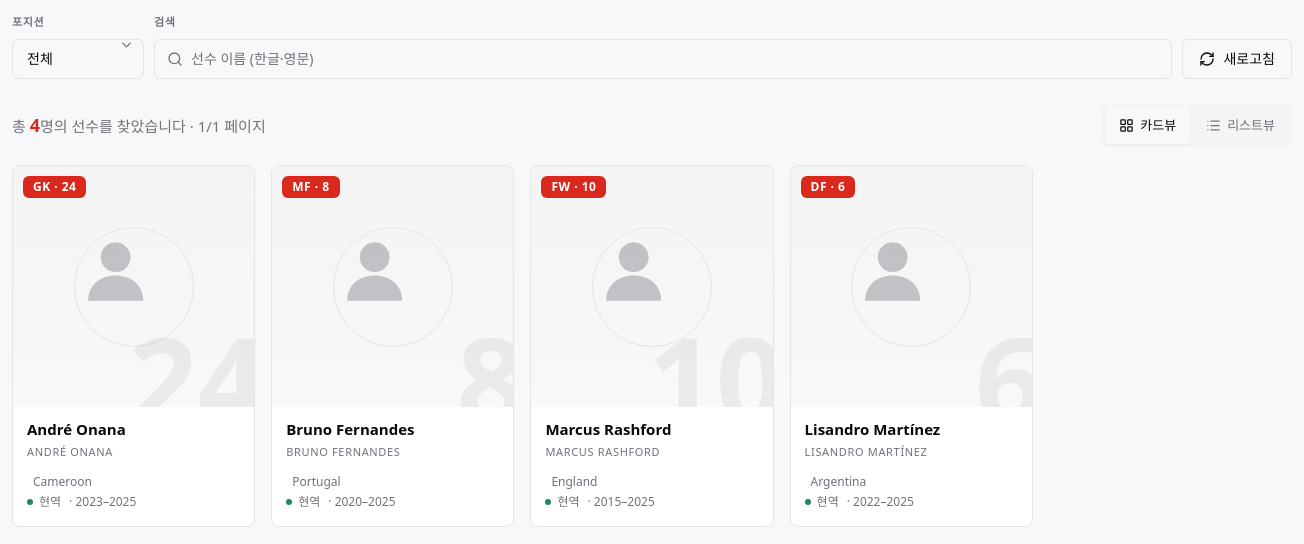
Scenario: RosterPanel › 검색 0건 — RosterEmpty가 뜨고 초기화 클릭 시 전체 목록으로 되돌아온다
In the field named "선수 검색": (675, 59) [191, 49, 1160, 69], type "존재하지않는선수"
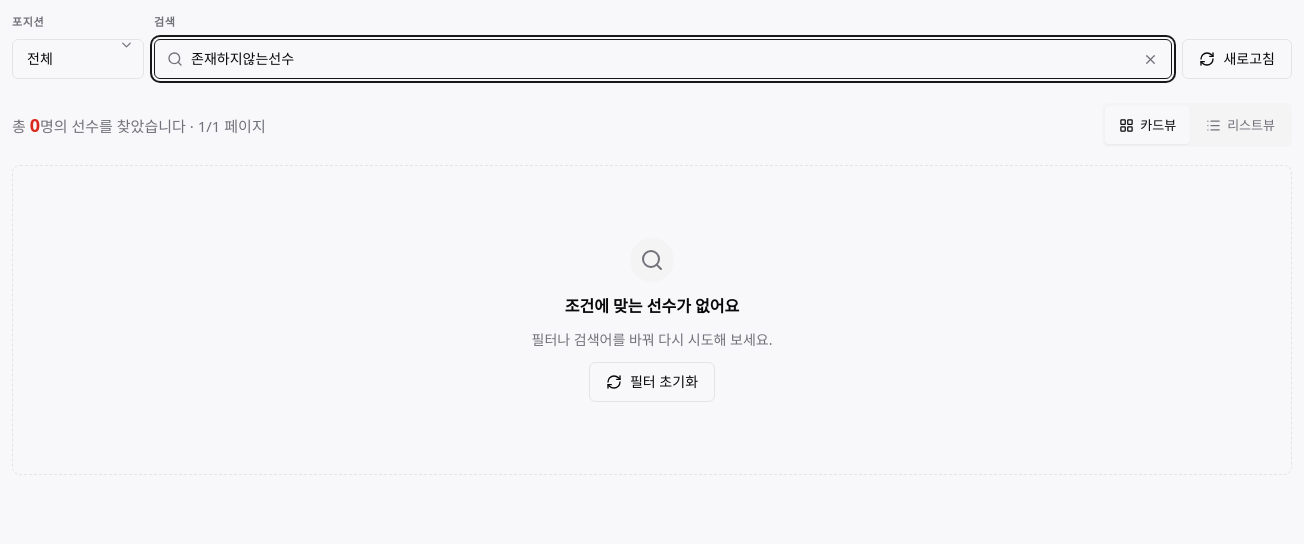
Expected: the heading "조건에 맞는 선수가 없어요" is shown, [565, 294, 739, 318]
Click the button "필터 초기화": (652, 382) [589, 362, 715, 402]
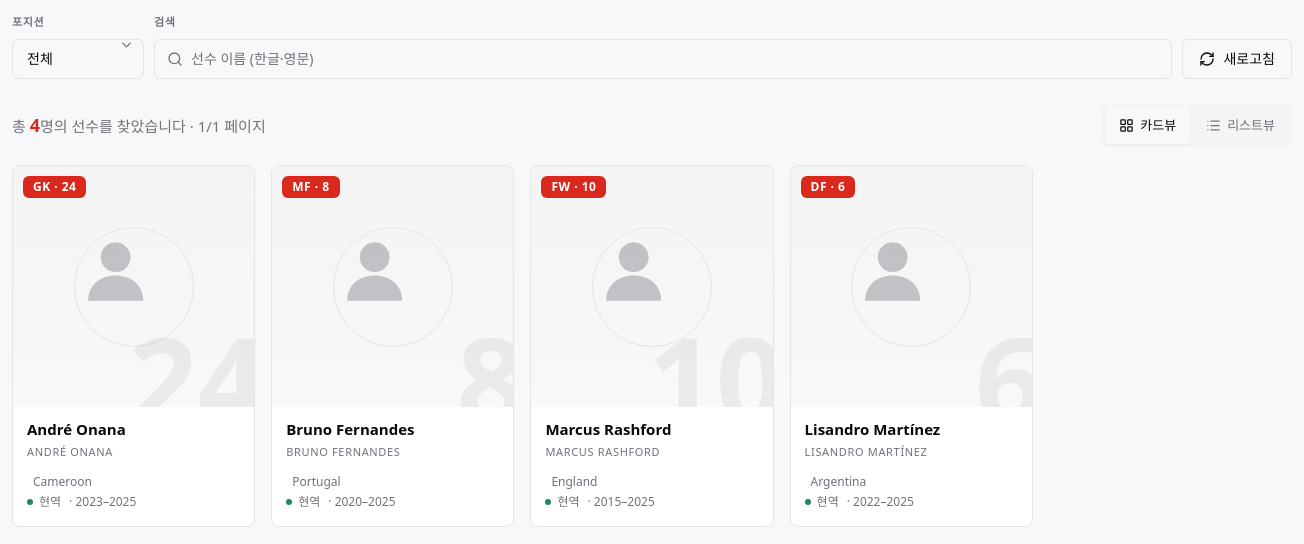
Expected: the field named "선수 검색" is empty, [191, 49, 1160, 69]
